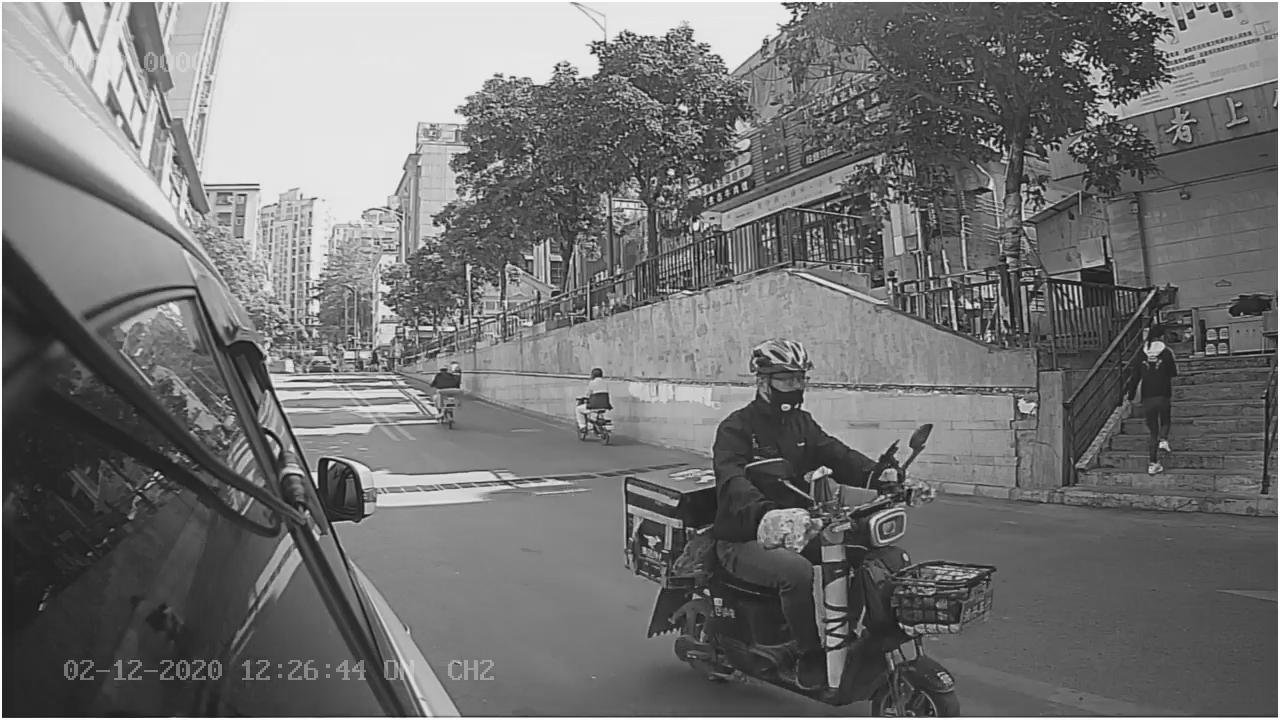person: (715, 326, 860, 512)
